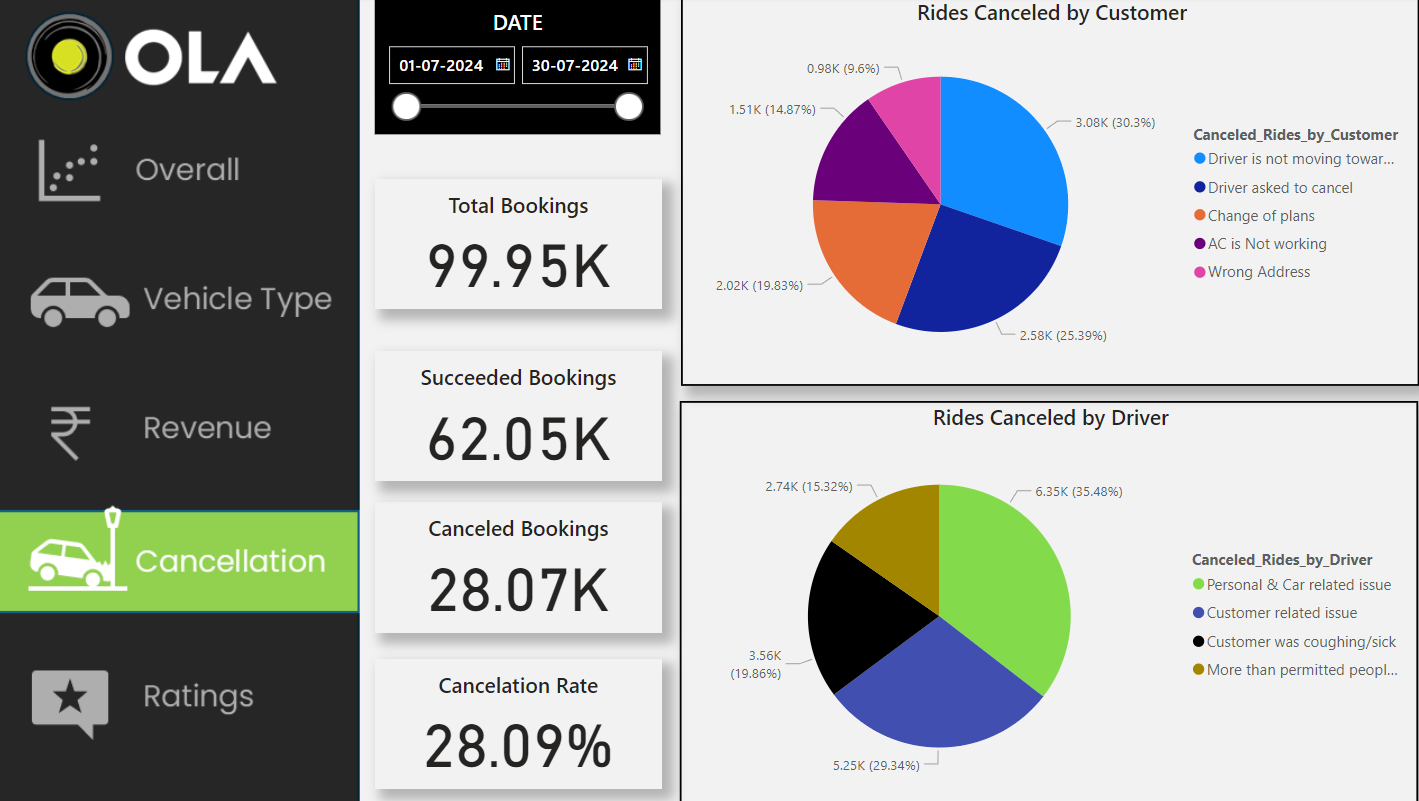

What the dashboard file says about the page in this screenshot:
{"tool":"powerbi","page":{"name":"Cancellation","canvas":[1280,720],"ordinal":3},"visuals":[{"type":"actionButton","box":[0,220.8,324.5,95.3],"z":0},{"type":"actionButton","box":[0,336.6,324.5,95.3],"z":1000},{"type":"actionButton","box":[0,451.2,324.5,95.3],"z":2000},{"type":"actionButton","box":[1.2,580.3,324.5,95.3],"z":3000},{"type":"actionButton","box":[0,103.8,324.5,95.3],"z":4000},{"type":"pieChart","title":" Rides Canceled by Driver","fields":{"Y":["CountNonNull(July.Canceled_Rides_by_Driver)"],"Category":["July.Canceled_Rides_by_Driver"]},"box":[609.3,360.7,657.5,359.5],"z":5000},{"type":"pieChart","title":" Rides Canceled by Customer","fields":{"Category":["July.Canceled_Rides_by_Customer"],"Y":["CountNonNull(July.Canceled_Rides_by_Customer)"]},"box":[610.5,0,657.5,347.5],"z":6000},{"type":"slicer","title":"DATE","fields":{"Values":["July.Date"]},"box":[337.8,0,254.6,123.1],"z":7000},{"type":"card","title":"Total Bookings","fields":{"Values":["CountNonNull(July.Customer_ID)"]},"box":[337.8,162.9,255.8,115.8],"z":8000},{"type":"card","title":"Succeeded Bookings","fields":{"Values":["CountNonNull(July.Booking_Status)"]},"box":[337.8,316.1,255.8,115.8],"z":9000},{"type":"card","title":"Canceled Bookings","fields":{"Values":["CountNonNull(July.Customer_ID)"]},"box":[337.8,451.2,255.8,115.8],"z":10000},{"type":"card","title":"Cancelation Rate","fields":{"Values":["July.CanceledPercentage"]},"box":[337.8,589.9,255.8,115.8],"z":11000}]}

Visuals, with their boxes on the page's 1280x720 design canvas (x1, y1, x2, y2). These are canvas units, not pixel positions in the 1419x801 screenshot, which may show the page scaled, cropped or inside an application window:
actionButton: detection(0, 221, 324, 316)
actionButton: detection(0, 337, 324, 432)
actionButton: detection(0, 451, 324, 546)
actionButton: detection(1, 580, 326, 676)
actionButton: detection(0, 104, 324, 199)
" Rides Canceled by Driver" pieChart: detection(609, 361, 1267, 720)
" Rides Canceled by Customer" pieChart: detection(610, 0, 1268, 348)
"DATE" slicer: detection(338, 0, 592, 123)
"Total Bookings" card: detection(338, 163, 594, 279)
"Succeeded Bookings" card: detection(338, 316, 594, 432)
"Canceled Bookings" card: detection(338, 451, 594, 567)
"Cancelation Rate" card: detection(338, 590, 594, 706)
